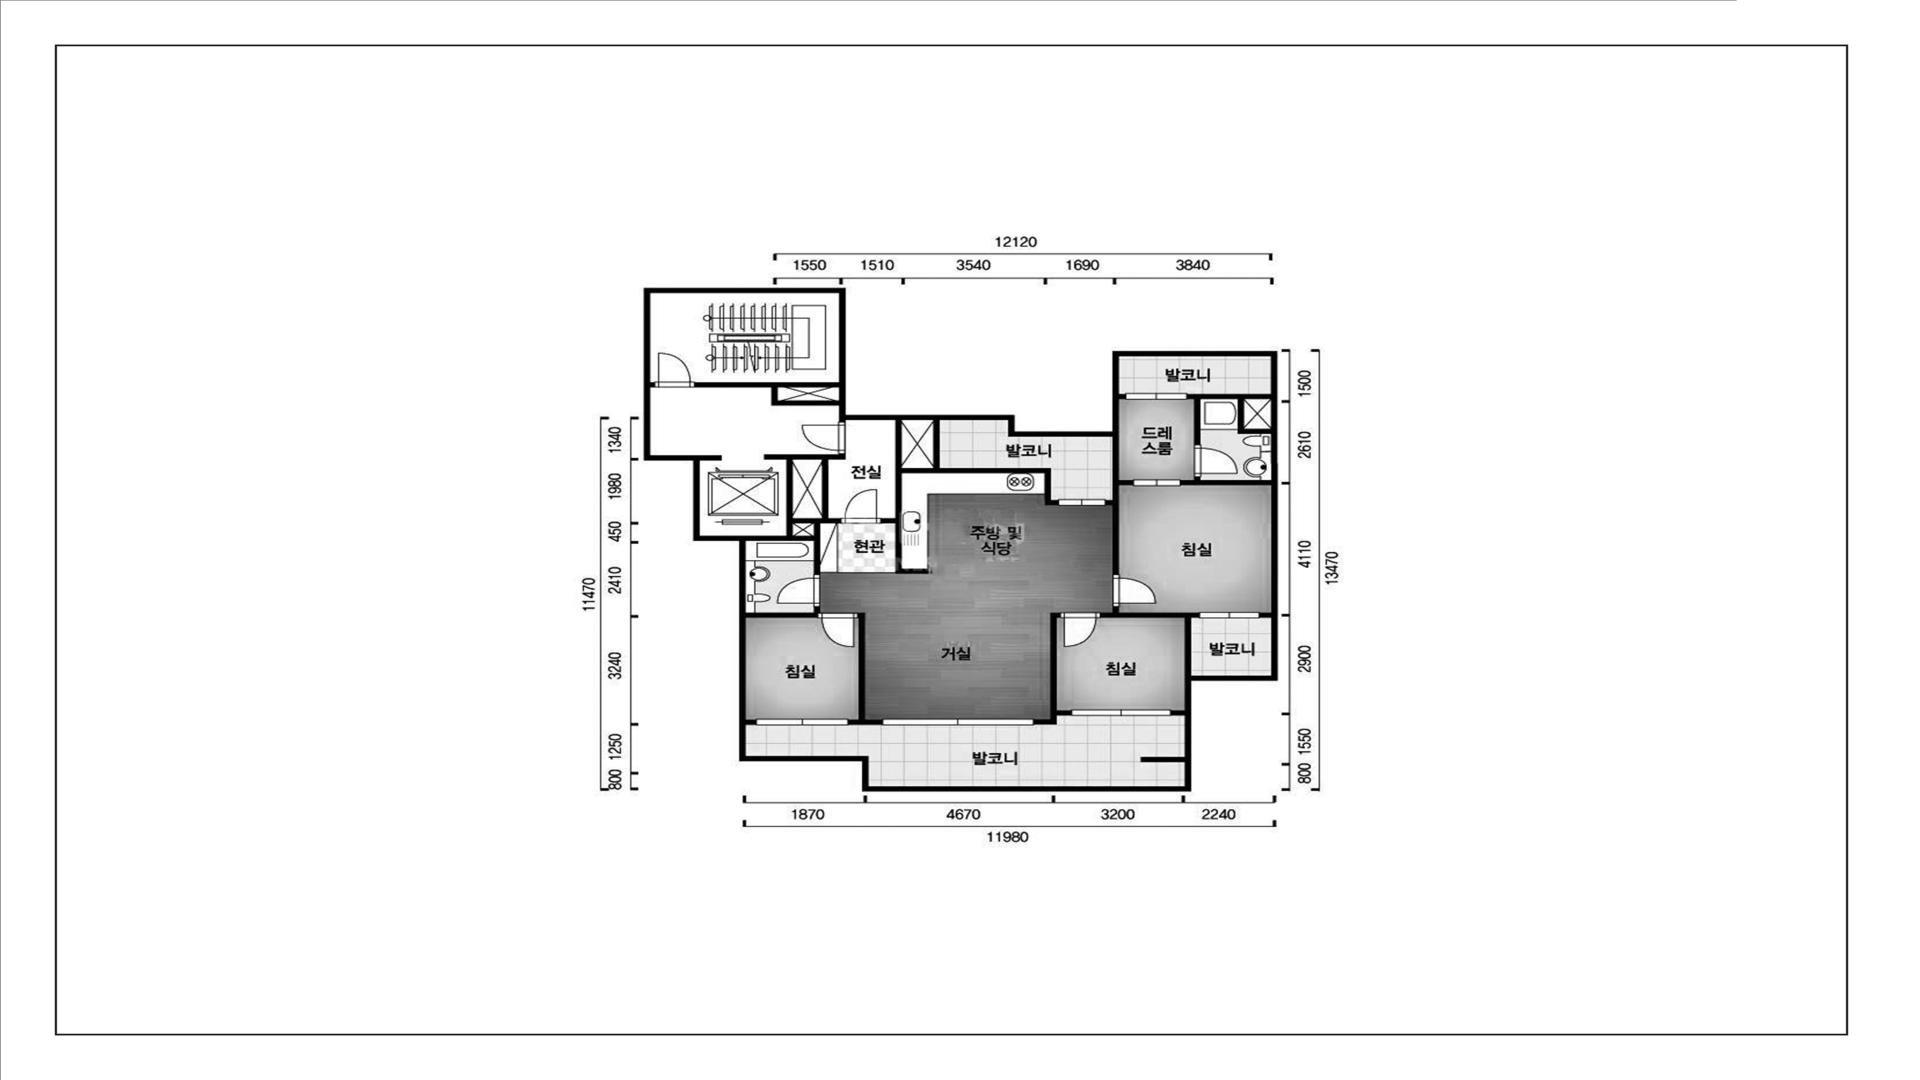door: (1193, 444, 1238, 477), (840, 488, 881, 524), (1060, 612, 1101, 647), (654, 352, 695, 388), (816, 613, 858, 647), (800, 422, 845, 454), (1112, 575, 1156, 607), (777, 575, 820, 607)
wall: (644, 287, 1278, 791), (881, 419, 1058, 574), (746, 454, 845, 575), (1101, 607, 1199, 675), (1188, 394, 1271, 444), (1034, 613, 1071, 724), (849, 613, 882, 725), (1106, 436, 1133, 575), (695, 382, 839, 406), (1182, 477, 1271, 485), (746, 613, 816, 617), (1141, 757, 1184, 762), (700, 455, 723, 460), (1261, 612, 1271, 617), (1171, 711, 1184, 715), (814, 607, 820, 613), (746, 720, 756, 724), (1120, 394, 1125, 400), (650, 382, 654, 388), (839, 419, 845, 422)
window: (882, 719, 1034, 725), (1071, 709, 1171, 716), (756, 719, 849, 725), (1125, 393, 1188, 400), (1199, 612, 1261, 618), (1133, 479, 1180, 487), (1058, 500, 1106, 506)
